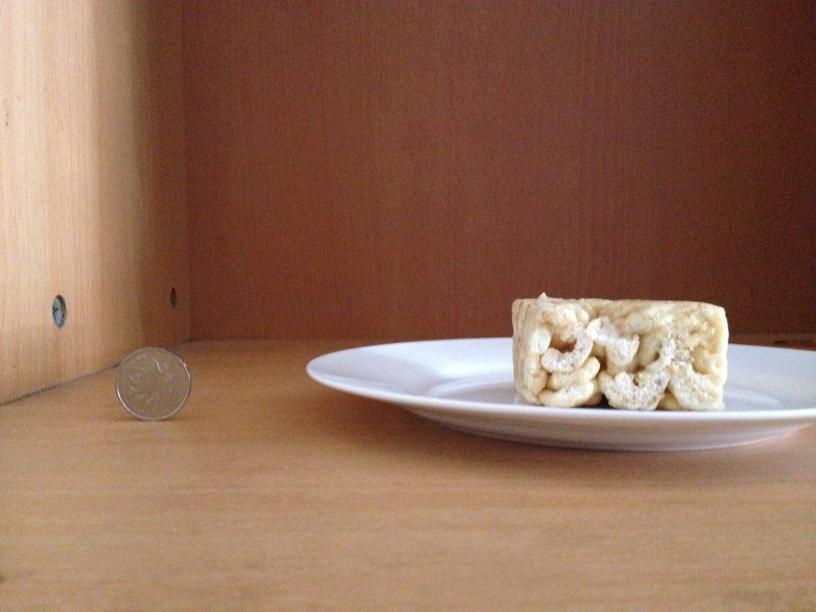coin: (110, 349, 191, 422)
sachima: (498, 291, 729, 414)
